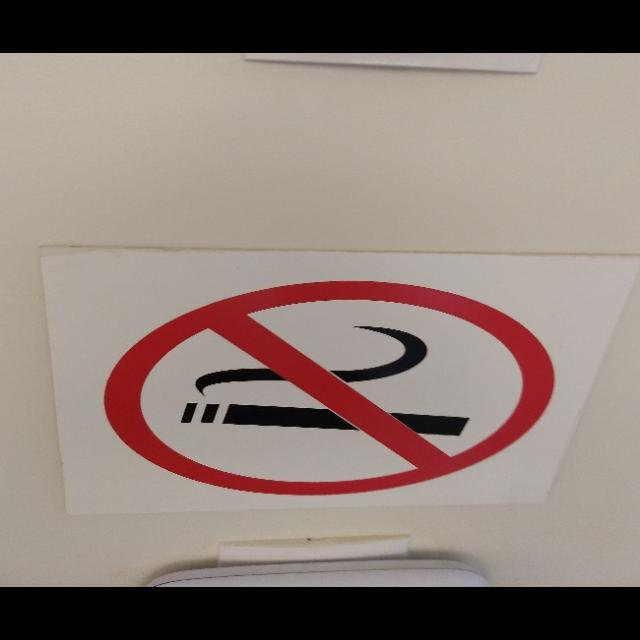cam hut thuoc: (104, 281, 553, 495)
